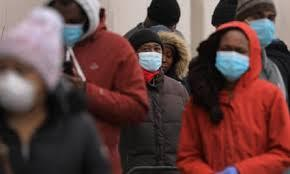No Mask: (164, 42, 179, 74)
Wearing Mask: (1, 53, 46, 112), (215, 36, 253, 86), (60, 5, 95, 50), (248, 10, 280, 48), (136, 43, 163, 73)
